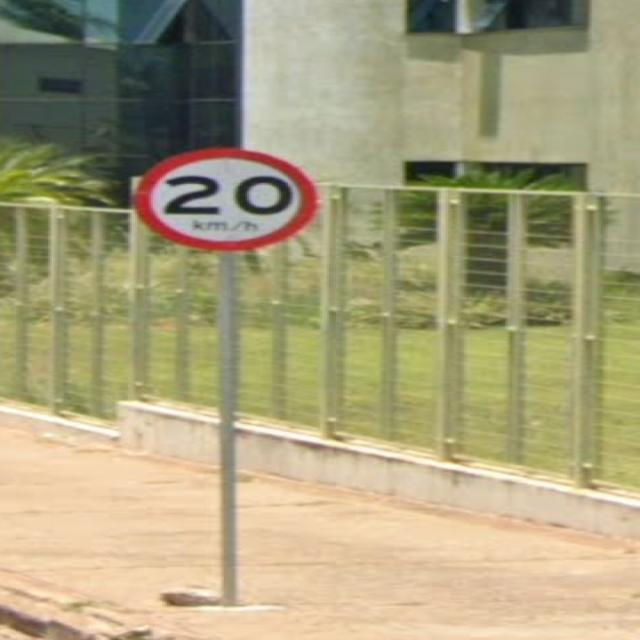speed limit: (100, 136, 332, 272)
